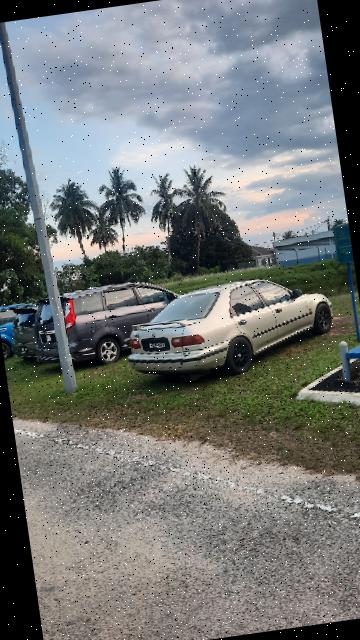License_Plate: (143, 339, 173, 354)
car: (120, 267, 342, 389)
